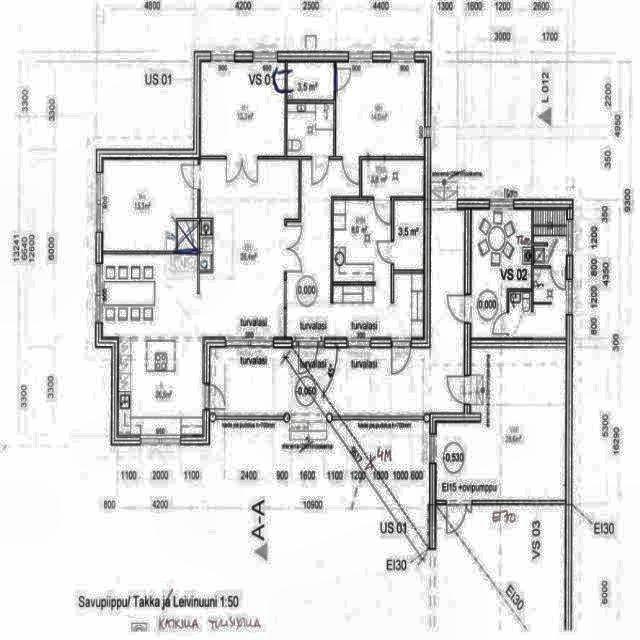room: (437, 348, 565, 500), (471, 209, 566, 338), (103, 160, 198, 251), (337, 63, 424, 156), (201, 62, 285, 156), (287, 104, 333, 156), (362, 160, 423, 196), (394, 201, 423, 269), (287, 63, 334, 100)
